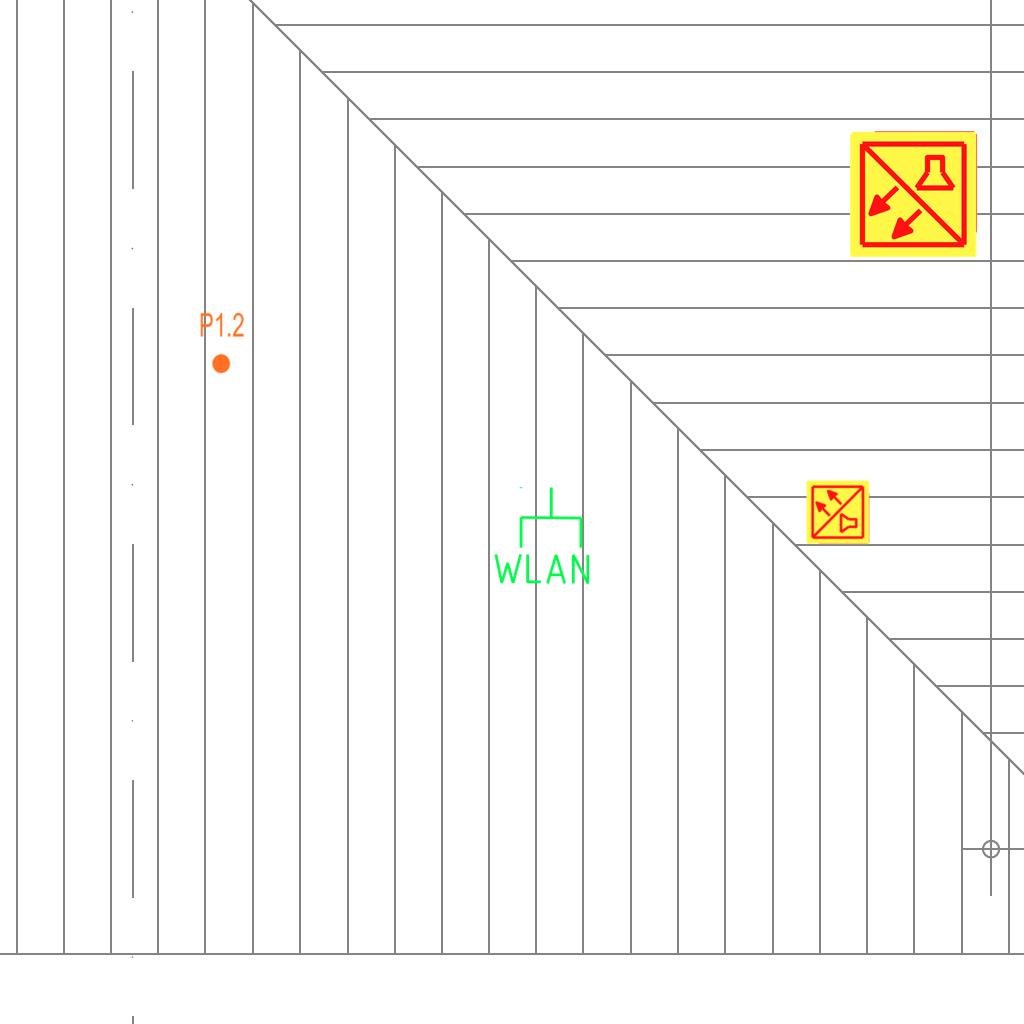Downlight_LED_Einbauleuchten_Flur: (199, 311, 245, 375)
OKW_Multisensormelder_(Kombination_optischer_Rauch-Kahlenmonoxid_Waerme-Melder): (847, 128, 979, 260), (805, 479, 871, 545)
WLAN: (489, 484, 594, 588)
